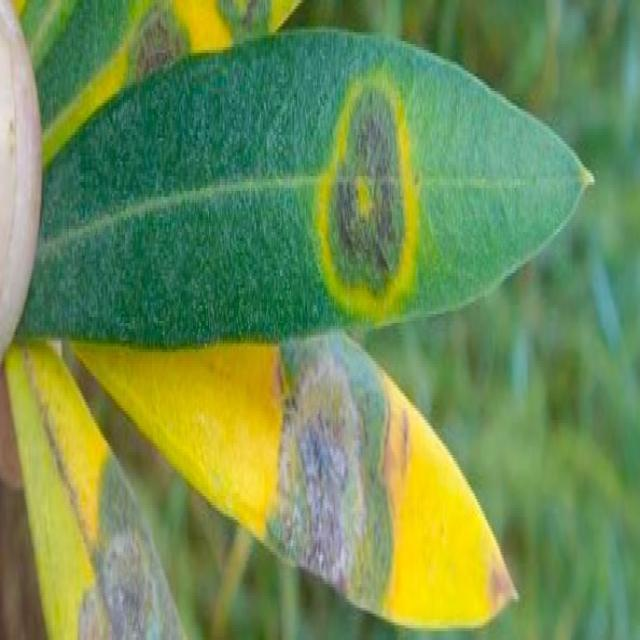OlivePeacockSpot: (25, 30, 592, 346), (80, 335, 515, 637), (7, 346, 186, 637)
